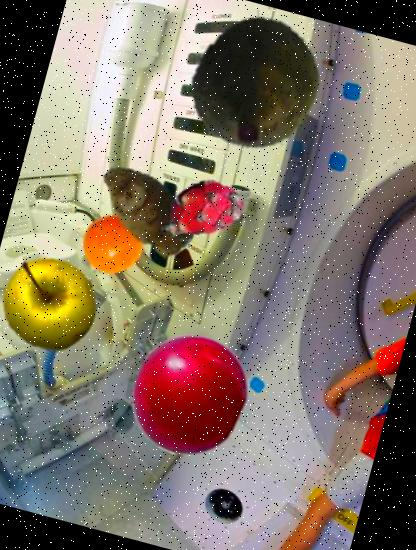Apple: (0, 245, 109, 364)
Beetroot: (164, 0, 344, 179)
Cherry: (114, 320, 263, 470)
Ginger: (80, 142, 214, 278)
Physalis: (74, 207, 150, 282)
Pitahaya: (148, 157, 256, 264)
